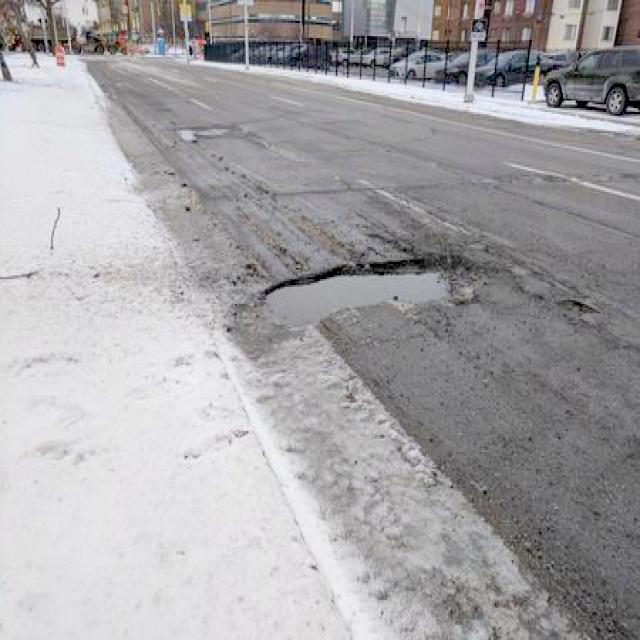Pothole: (254, 246, 486, 336), (175, 120, 266, 158)
